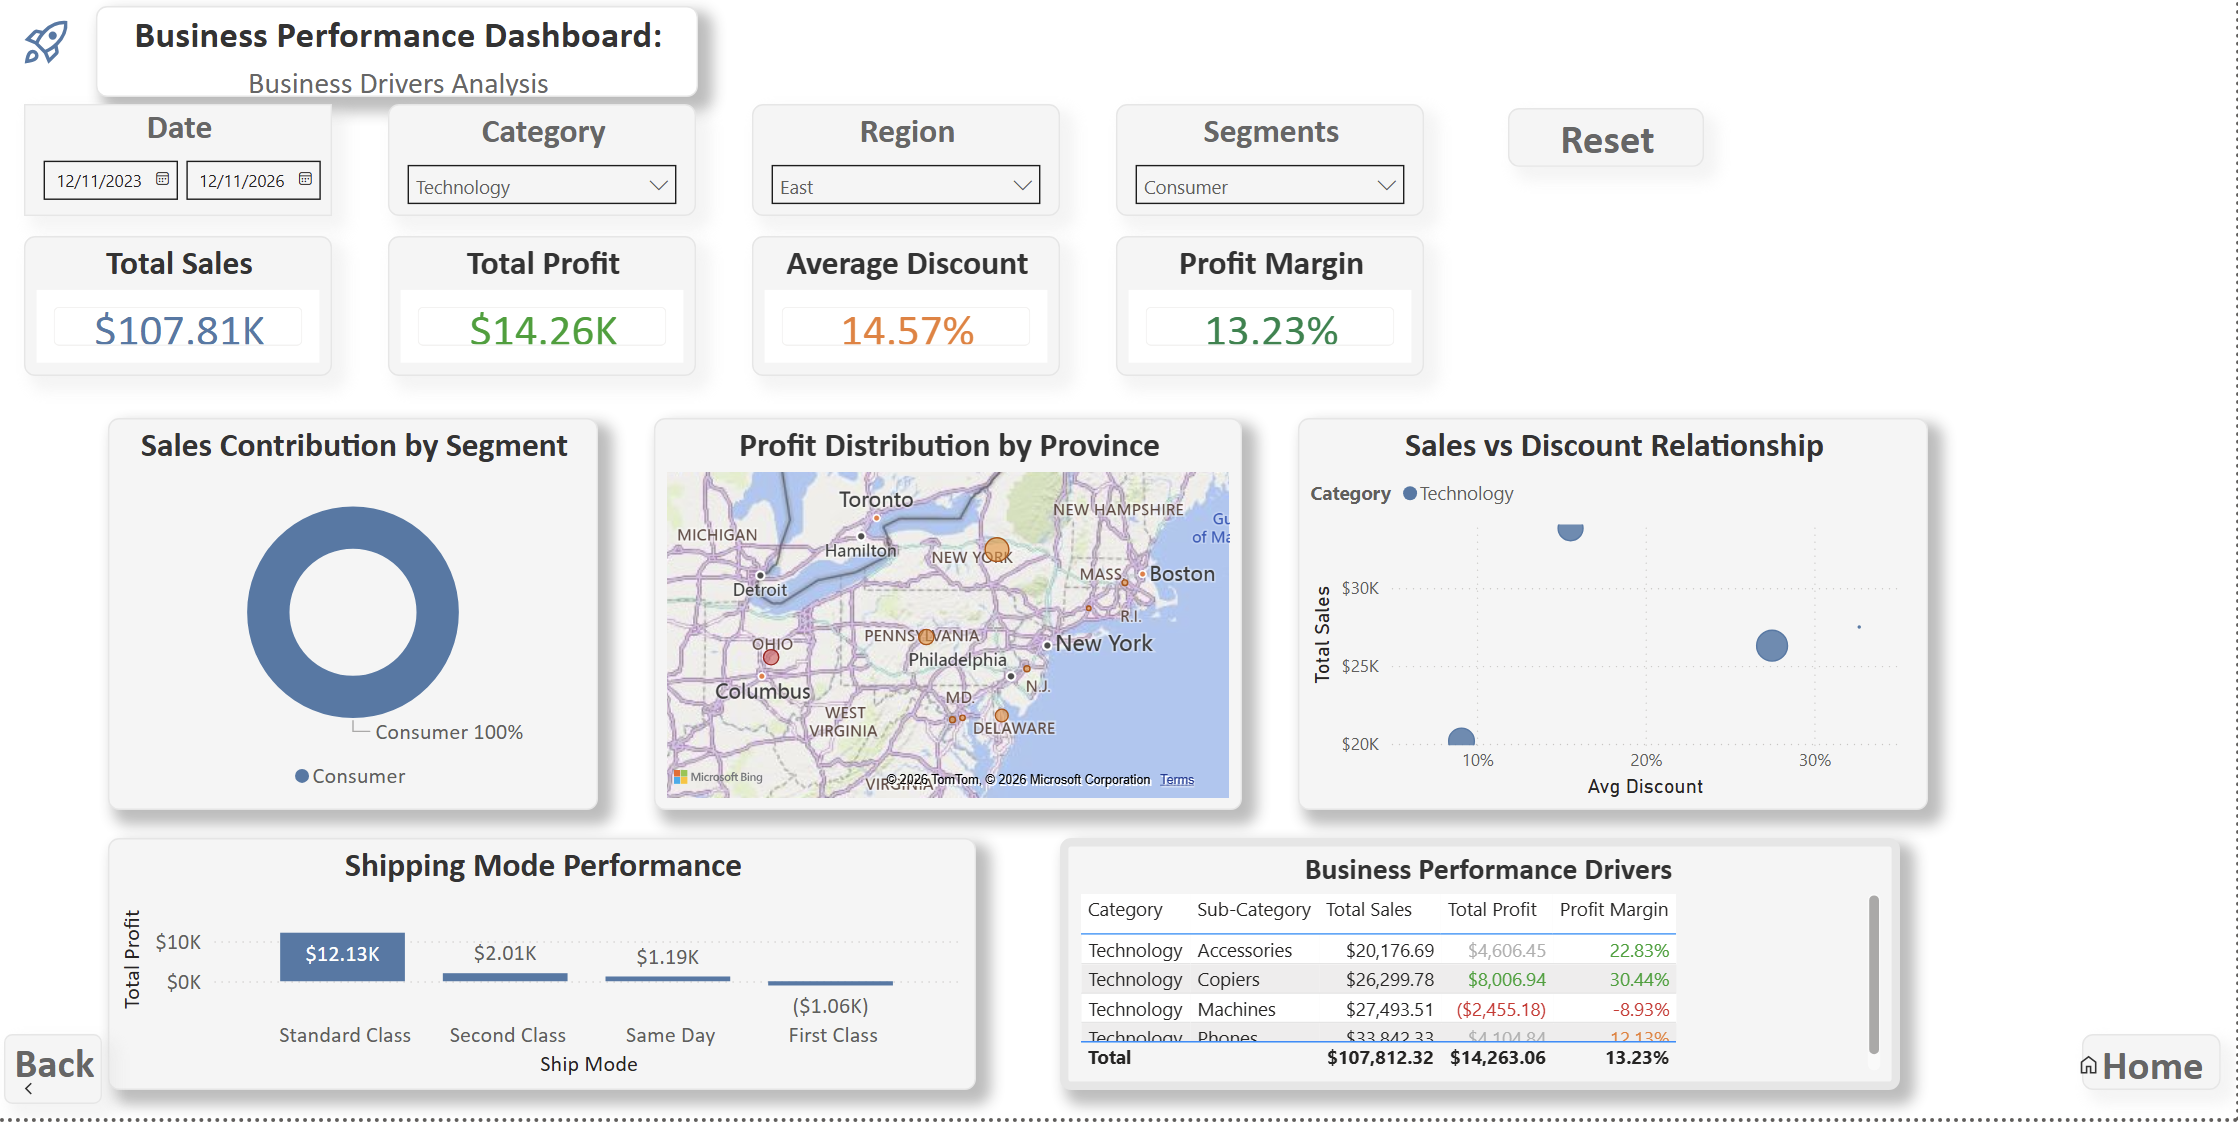

This screenshot's page, from the dashboard's own definition file:
{"tool":"powerbi","page":{"name":"Business Drivers Analysis","canvas":[1600,800],"ordinal":3},"visuals":[{"type":"scatterChart","title":"Sales vs Discount Relationship","fields":{"X":["samplesuperstore.Avg Discount"],"Size":["samplesuperstore.Total Profit"],"Y":["samplesuperstore.Total Sales"],"Category":["samplesuperstore.Sub-Category"],"Series":["samplesuperstore.Category"]},"box":[930,300,450,280],"z":0},{"type":"clusteredColumnChart","title":"Shipping Mode Performance","fields":{"Y":["samplesuperstore.Total Profit"],"Category":["samplesuperstore.Ship Mode"]},"box":[80,600,620,180],"z":1000},{"type":"donutChart","title":"Sales Contribution by Segment","fields":{"Category":["samplesuperstore.Segment"],"Y":["samplesuperstore.Total Sales"]},"box":[80,300,350,280],"z":2000},{"type":"map","title":"Profit Distribution by Province","fields":{"Category":["samplesuperstore.State/Province"],"Size":["samplesuperstore.Total Sales"]},"box":[470,300,420,280],"z":3000},{"type":"textbox","title":"Business Performance Dashboard:","box":[72,5,430,65],"z":4000},{"type":"slicer","title":"Date","fields":{"Values":["samplesuperstore.Order Date"]},"box":[20,75,220,80],"z":5000},{"type":"slicer","title":"Category","fields":{"Values":["samplesuperstore.Category"]},"box":[280,75,220,80],"z":6000},{"type":"slicer","title":"Region","fields":{"Values":["samplesuperstore.Region"]},"box":[540,75,220,80],"z":7000},{"type":"slicer","title":"Segments","fields":{"Values":["samplesuperstore.Segment"]},"box":[800,75,220,80],"z":8000},{"type":"cardVisual","title":"Total Sales","fields":{"Data":["samplesuperstore.Total Sales"]},"box":[20,170,220,100],"z":9000},{"type":"cardVisual","title":"Total Profit","fields":{"Data":["samplesuperstore.Total Profit"]},"box":[280,170,220,100],"z":10000},{"type":"cardVisual","title":"Average Discount","fields":{"Data":["samplesuperstore.Avg Discount"]},"box":[540,170,220,100],"z":11000},{"type":"cardVisual","title":"Profit Margin","fields":{"Data":["samplesuperstore.Profit Margin"]},"box":[800,170,220,100],"z":12000},{"type":"tableEx","title":"Business Performance Drivers","fields":{"Values":["samplesuperstore.Category","samplesuperstore.Sub-Category","samplesuperstore.Total Sales","samplesuperstore.Total Profit","samplesuperstore.Profit Margin"]},"box":[760,600,600,180],"z":13000},{"type":"actionButton","title":"Back","box":[5,740,70,50],"z":14000},{"type":"actionButton","title":"Home","box":[1490,740,99,40],"z":15000},{"type":"actionButton","title":"Reset","box":[1080,78,140,42],"z":16000},{"type":"image","box":[15,12,40,40],"z":17000},{"type":"image","box":[1486,753,18,18],"z":18000},{"type":"image","box":[14,770,18,18],"z":19000}]}

Visuals, with their boxes in screenshot pixels (x1, y1, x2, y2), scaled from the page's 1600x800 canvas onto the 2238x1122 screenshot:
"Sales vs Discount Relationship" scatterChart: box(1301, 421, 1930, 813)
"Shipping Mode Performance" clusteredColumnChart: box(112, 842, 979, 1094)
"Sales Contribution by Segment" donutChart: box(112, 421, 601, 813)
"Profit Distribution by Province" map: box(657, 421, 1245, 813)
"Business Performance Dashboard:" textbox: box(101, 7, 702, 98)
"Date" slicer: box(28, 105, 336, 217)
"Category" slicer: box(392, 105, 699, 217)
"Region" slicer: box(755, 105, 1063, 217)
"Segments" slicer: box(1119, 105, 1427, 217)
"Total Sales" cardVisual: box(28, 238, 336, 379)
"Total Profit" cardVisual: box(392, 238, 699, 379)
"Average Discount" cardVisual: box(755, 238, 1063, 379)
"Profit Margin" cardVisual: box(1119, 238, 1427, 379)
"Business Performance Drivers" tableEx: box(1063, 842, 1902, 1094)
"Back" actionButton: box(7, 1038, 105, 1108)
"Home" actionButton: box(2084, 1038, 2223, 1094)
"Reset" actionButton: box(1511, 109, 1706, 168)
image: box(21, 17, 77, 73)
image: box(2079, 1056, 2104, 1081)
image: box(20, 1080, 45, 1105)
